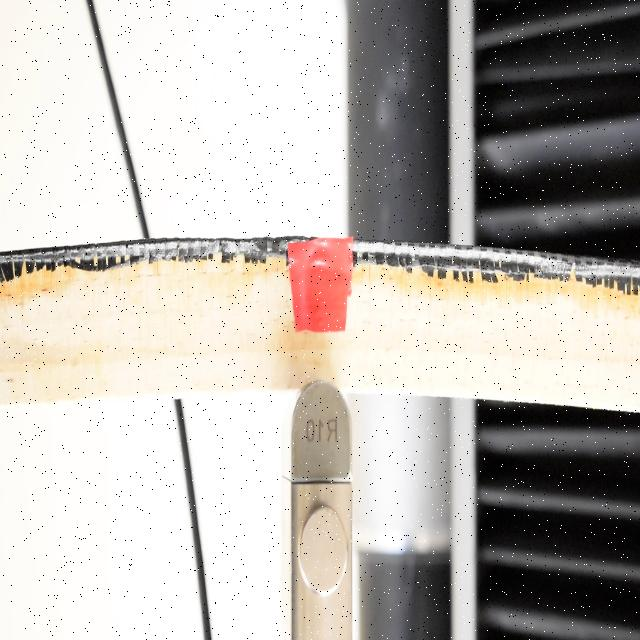wood: (0, 238, 638, 407)
